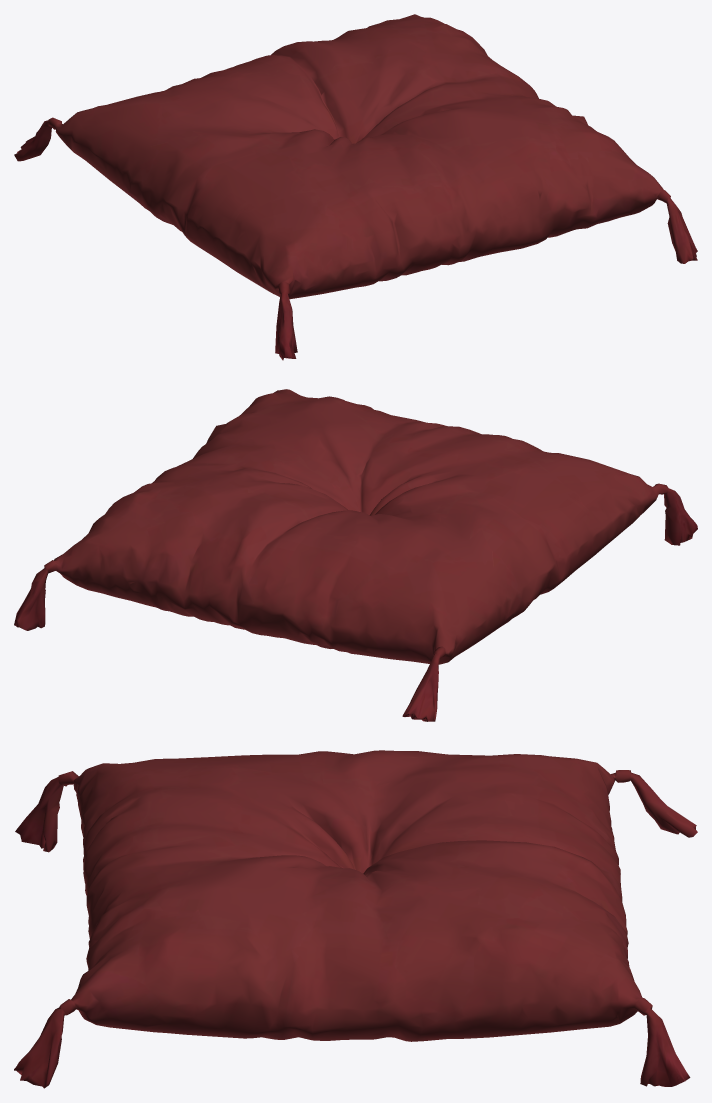
Rendered from zabuton.glb.
The picture shows the model from 3 angles, top to bottom: view 1: azimuth 30°, elevation 25°; view 2: azimuth 150°, elevation 25°; view 3: azimuth 270°, elevation 25°; orthographic projection. The views are drawn at different scales.
Parts seen in each view (by area): view 1: tripo_node_fff8ba24-d219-4602-a1f6-9488533b1f1f; view 2: tripo_node_fff8ba24-d219-4602-a1f6-9488533b1f1f; view 3: tripo_node_fff8ba24-d219-4602-a1f6-9488533b1f1f.
Part boxes in pixels (x1,y1,x2,y2): tripo_node_fff8ba24-d219-4602-a1f6-9488533b1f1f: [14, 14, 697, 360]; tripo_node_fff8ba24-d219-4602-a1f6-9488533b1f1f: [14, 389, 697, 721]; tripo_node_fff8ba24-d219-4602-a1f6-9488533b1f1f: [14, 750, 697, 1088].
Size of the model in its own units: 0.8846 by 0.2313 by 1.
Materials: 1 (1 with a texture image).
